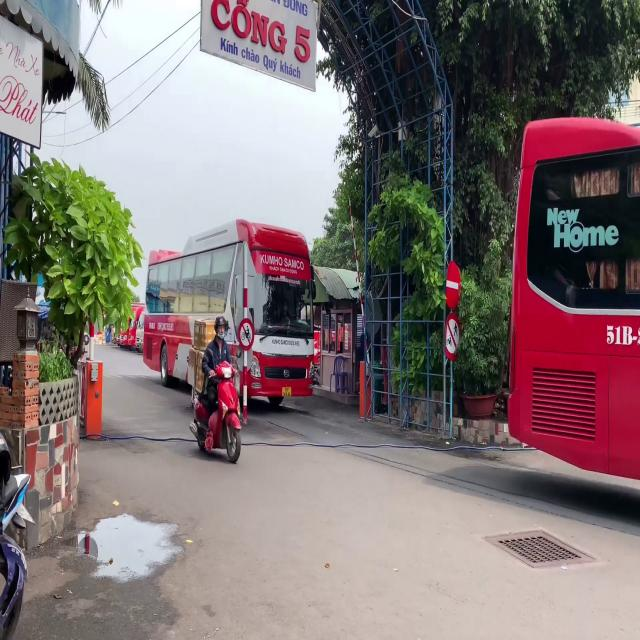bien_vang: (281, 386, 292, 397)
